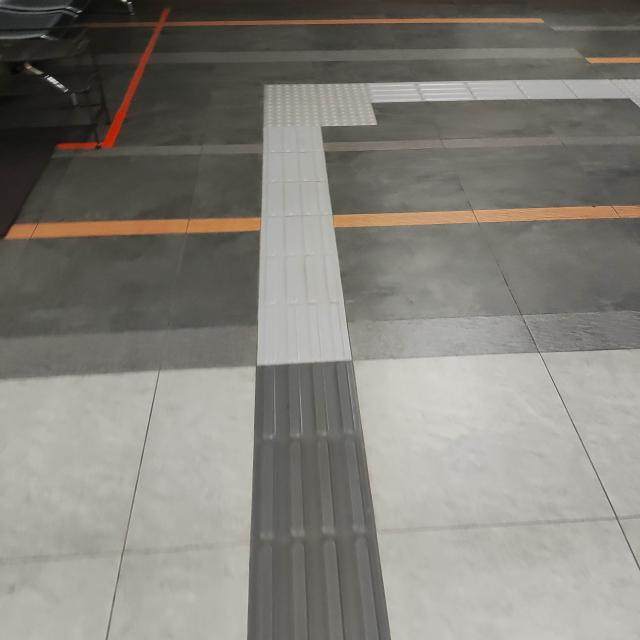kanan: (243, 52, 459, 151)
